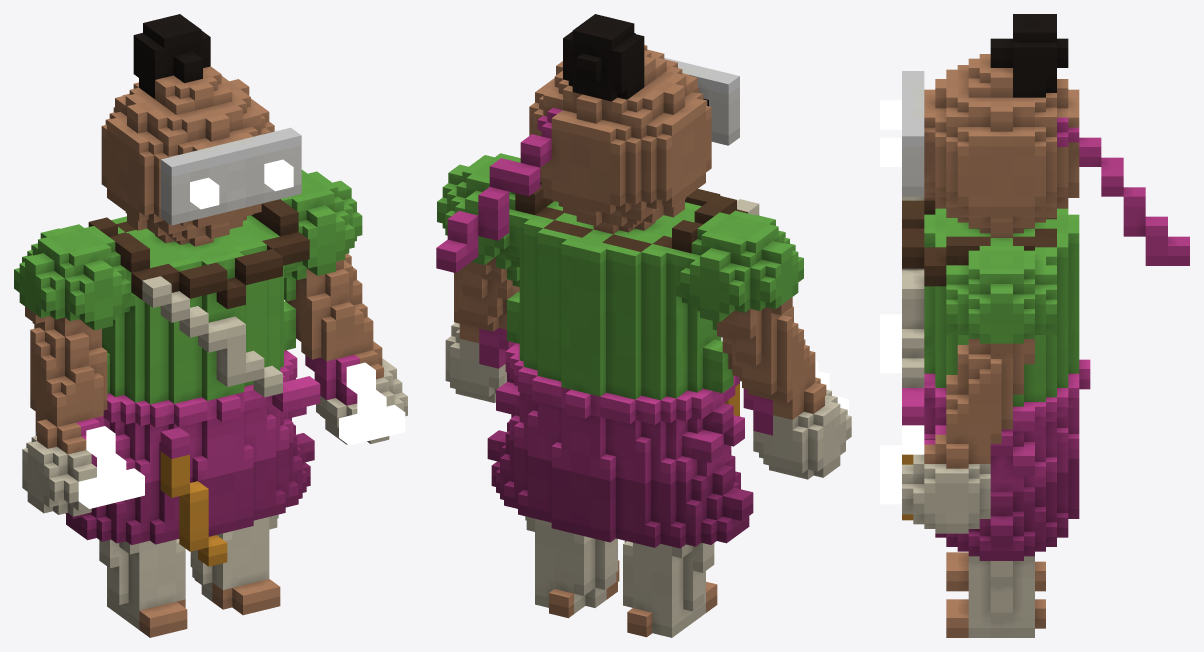
The model's file is u_moine__tidiane.glb.
3 renders of one model, left to right at view 1: azimuth 30°, elevation 25°; view 2: azimuth 150°, elevation 25°; view 3: azimuth 270°, elevation 25°, orthographic. The views are drawn at different scales.
Visible parts, largest first — view 1: moine_body, moine_glow; view 2: moine_body; view 3: moine_body, moine_glow.
Boxes of the visible parts, x1,y1,x2,y2 form: moine_body: (14,14,407,637); moine_glow: (78,159,405,508); moine_body: (436,14,851,637); moine_body: (902,14,1189,637); moine_glow: (880,100,924,504).
Size of the model in its own units: 0.95 by 1.45 by 0.7.
